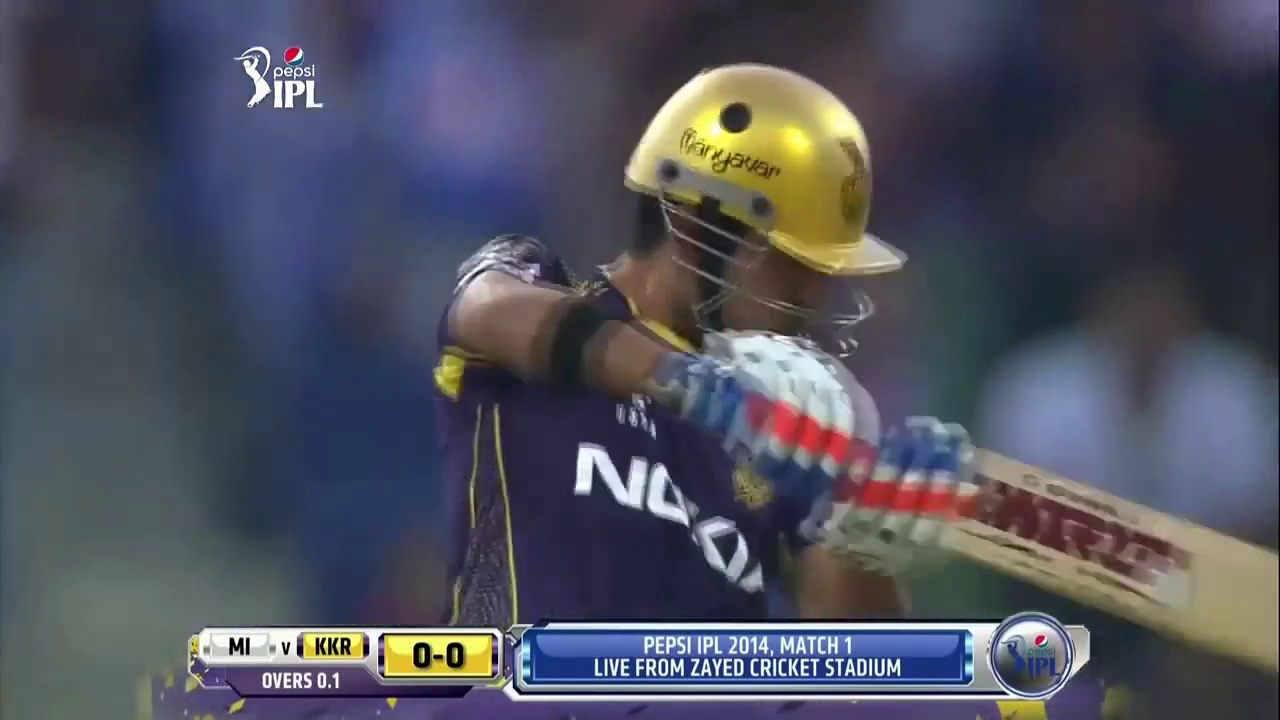bat: (980, 446, 1280, 609)
